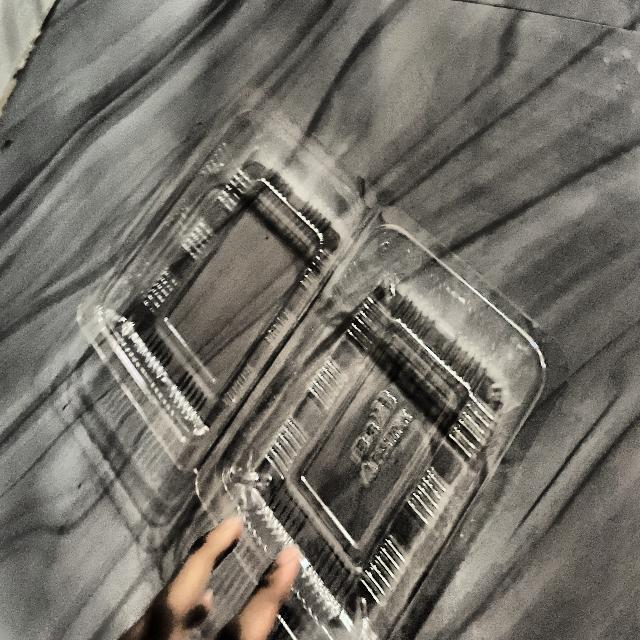plastic container: (110, 137, 497, 618)
